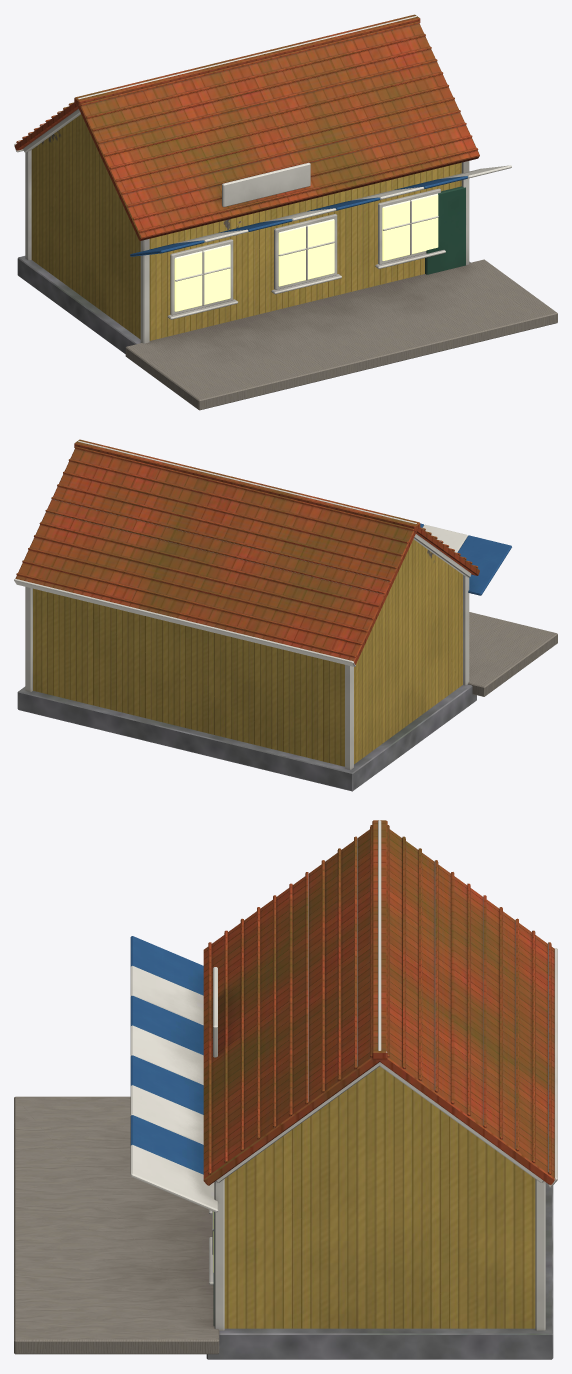
File: cafe_tex.glb
3 views of the same model, one above another, from view 1: azimuth 30°, elevation 25°; view 2: azimuth 150°, elevation 25°; view 3: azimuth 270°, elevation 25° (orthographic). The views are drawn at different scales.
Visible parts, largest first — view 1: cafe; view 2: cafe; view 3: cafe.
Part boxes in pixels (bbox=[...]): cafe: bbox=[14, 14, 557, 410]; cafe: bbox=[14, 439, 557, 791]; cafe: bbox=[14, 820, 557, 1359].
Bounding box in the file's own units: 9 × 5.35 × 8.47.
Materials: 8 (7 with a texture image).
